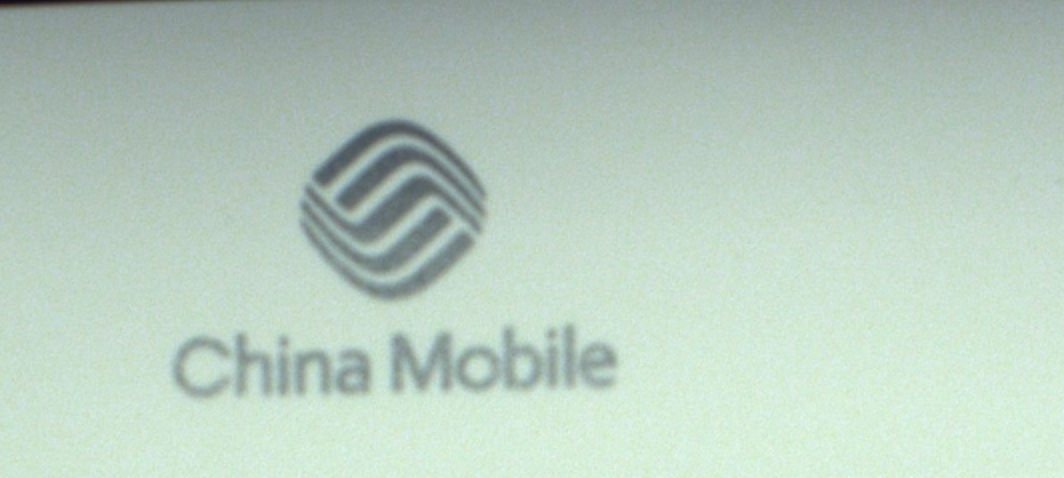AA_ChinaMobile: (150, 115, 630, 414)
